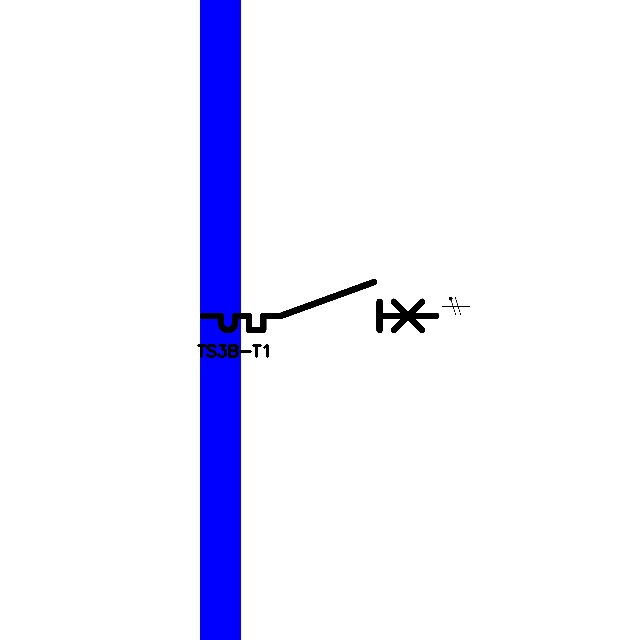interruptor_termomagnetico: (197, 276, 442, 336)
